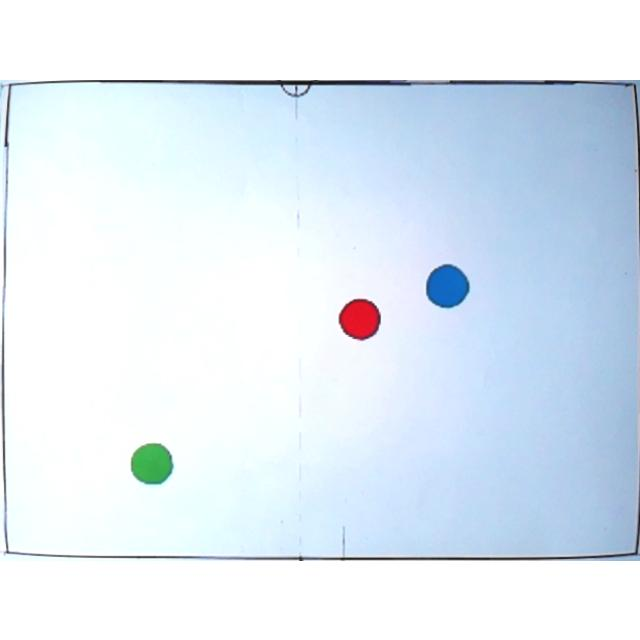blueCircle: (426, 262, 470, 306)
greenCircle: (128, 438, 174, 488)
redCircle: (338, 295, 382, 339)
